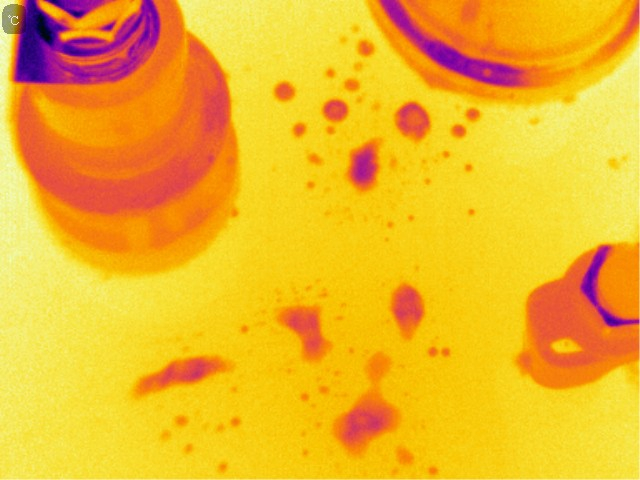Water: (330, 350, 408, 452), (265, 304, 335, 359), (132, 357, 235, 392), (322, 33, 374, 89), (392, 441, 443, 478), (391, 283, 424, 338), (393, 98, 430, 140), (352, 135, 379, 185), (303, 148, 328, 194), (450, 108, 479, 140), (207, 418, 253, 437), (324, 100, 354, 122), (159, 412, 195, 429), (205, 459, 241, 474), (421, 346, 457, 361), (295, 427, 312, 457), (461, 158, 485, 177), (151, 431, 176, 444), (314, 382, 331, 401), (273, 84, 293, 100), (293, 387, 308, 405), (465, 203, 484, 215)
